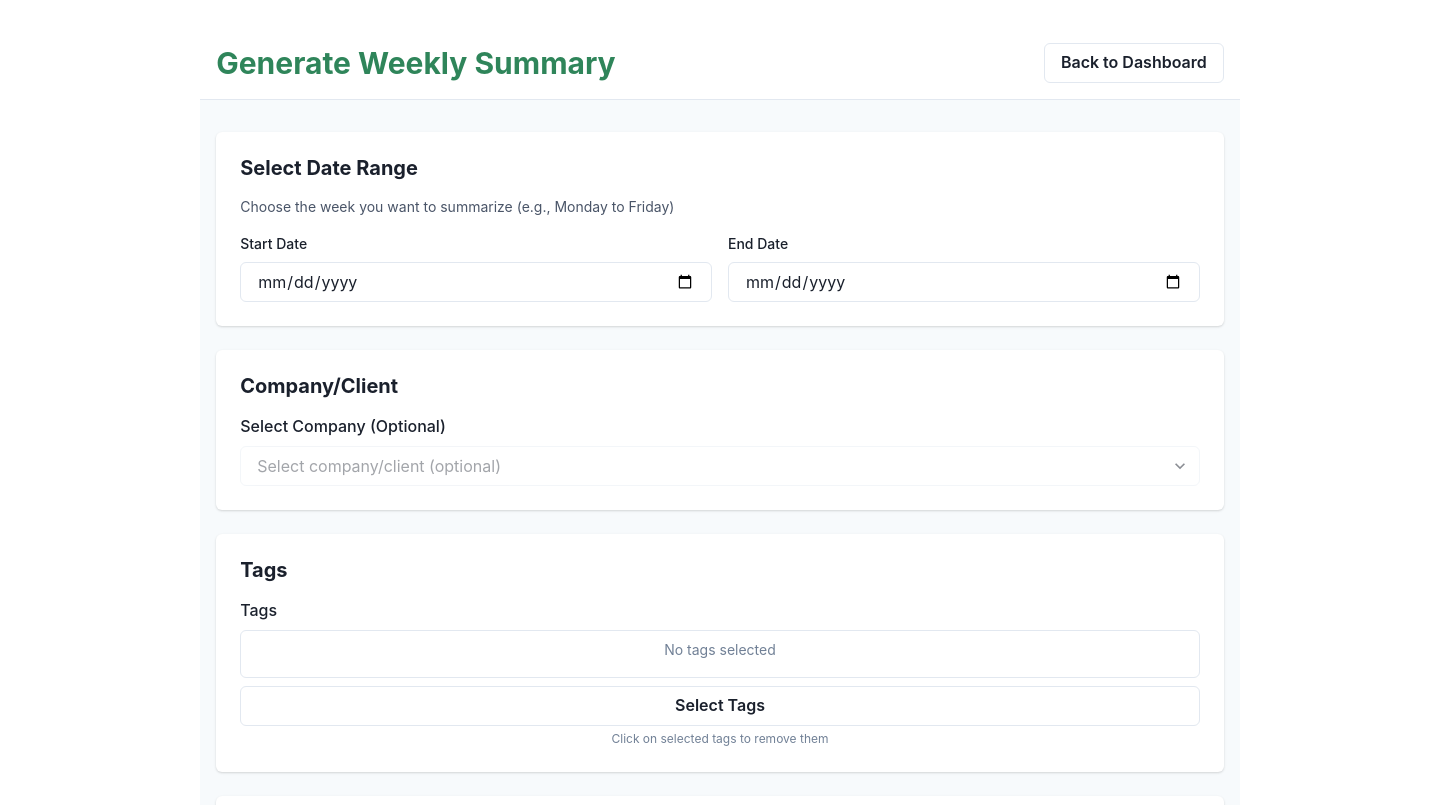
Test: CreateWeeklyUpdate page › shows an error toast when generation fails
Type "2026-07-01" into the date field below "Start Date".
click(476, 282); type("2026-07-01")  # box [240, 262, 712, 302]
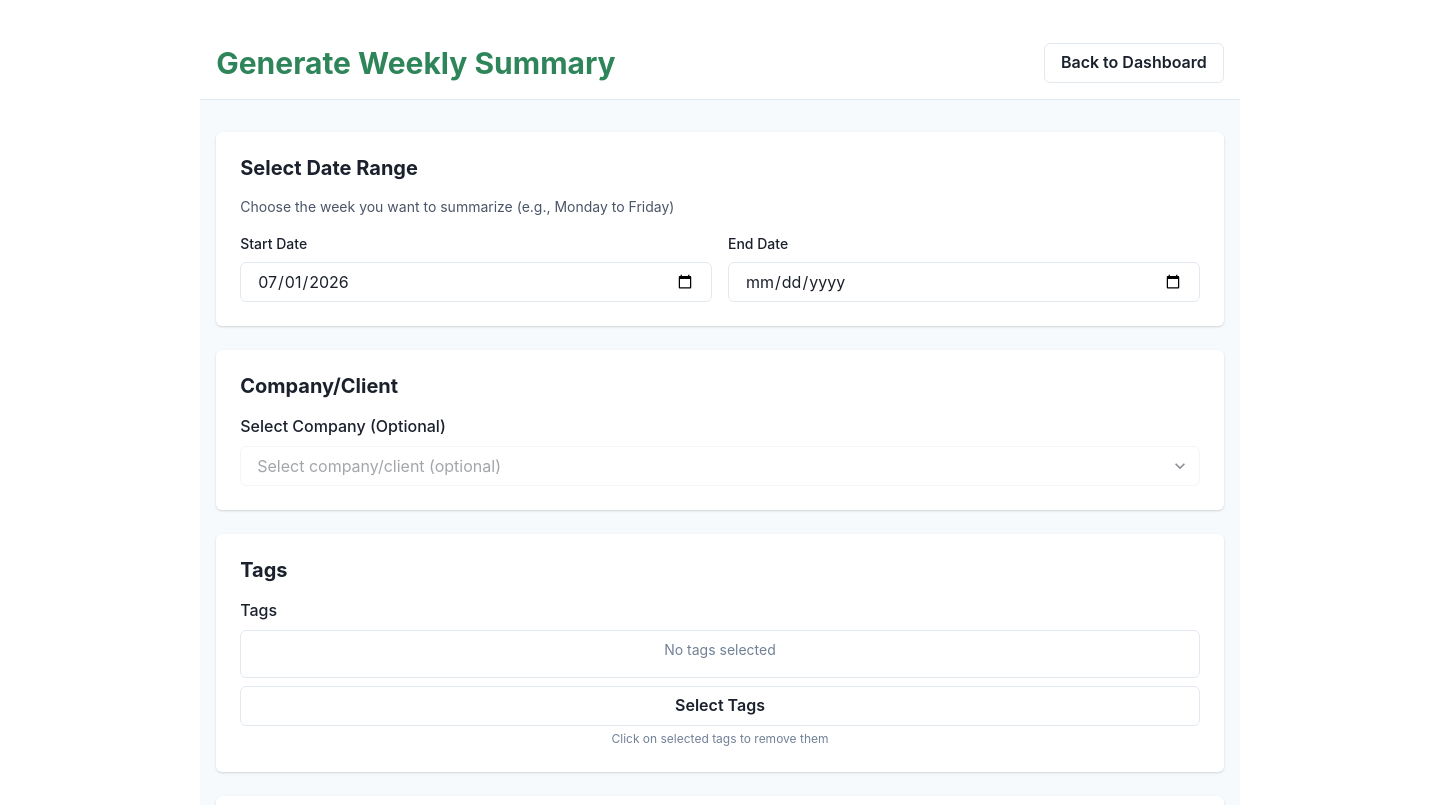
Type "2026-07-05" into the date field below "End Date".
click(964, 282); type("2026-07-05")  # box [728, 262, 1200, 302]
(page scrolled)
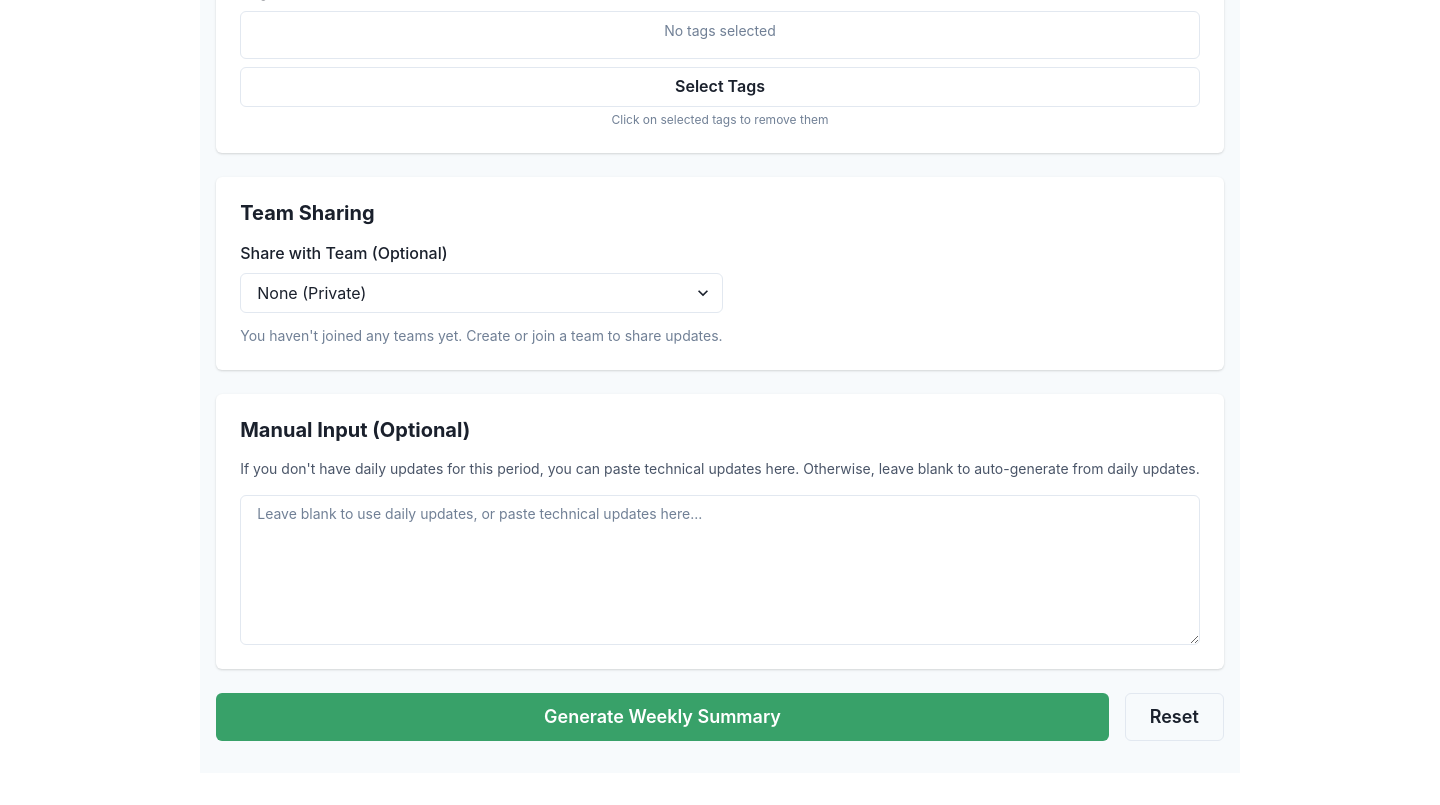
Click the button "Generate Weekly Summary".
click(662, 717)  # box [216, 693, 1109, 741]
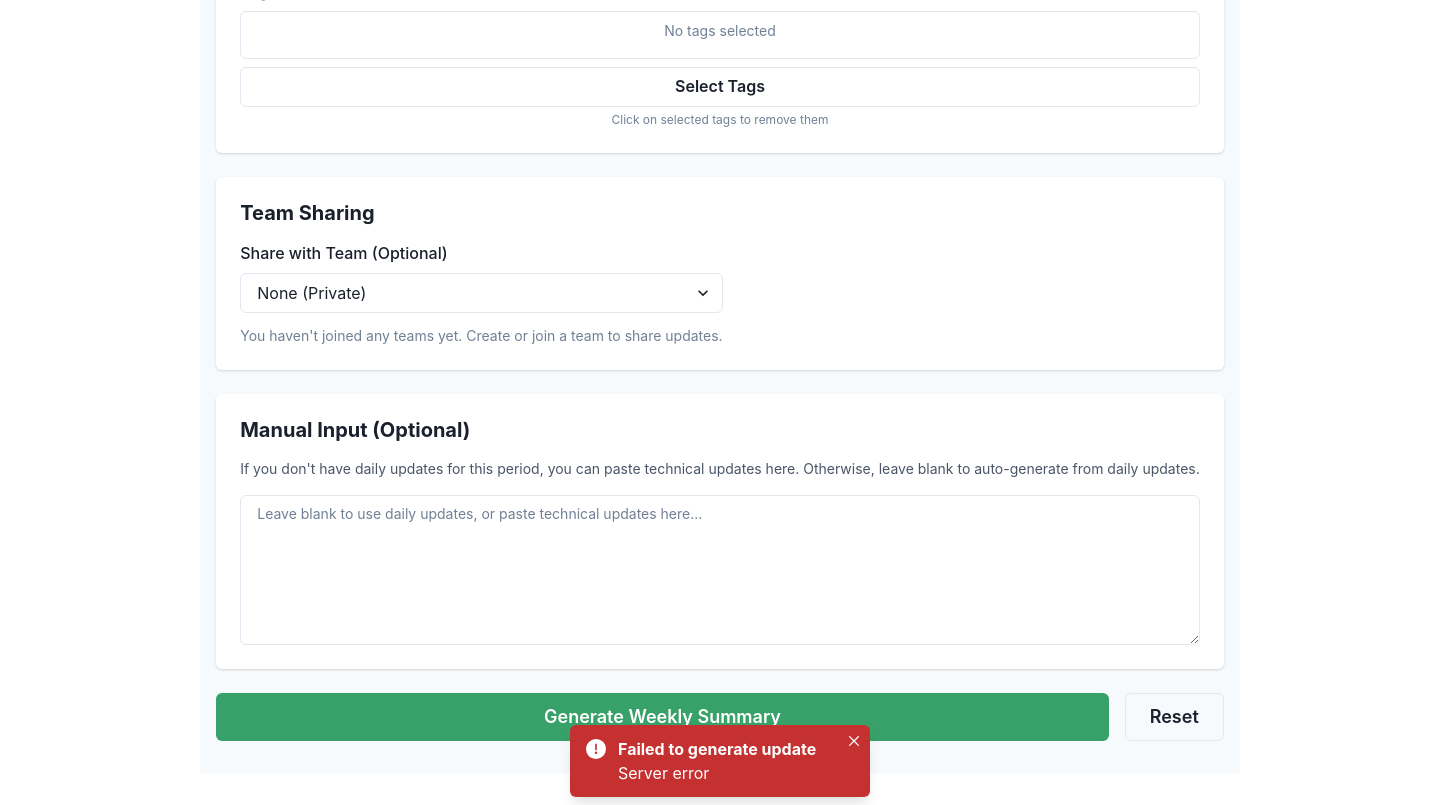
Check: the text "Failed to generate update" is shown, box [618, 737, 830, 761]
